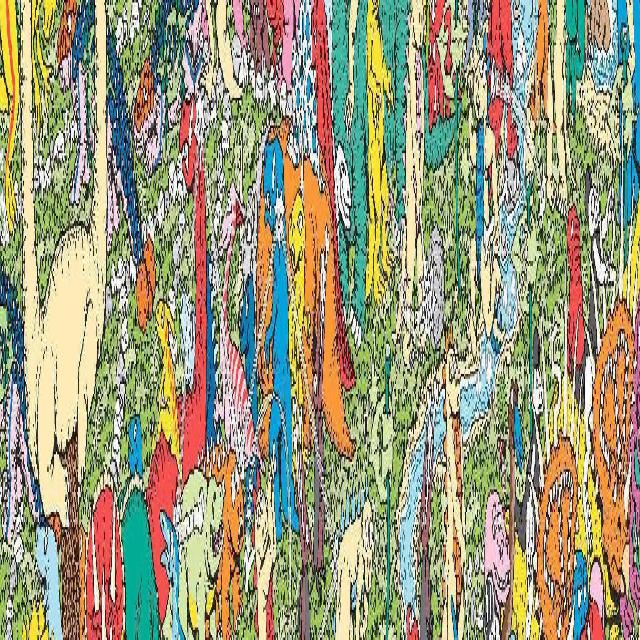waldo: (498, 434, 507, 505)
